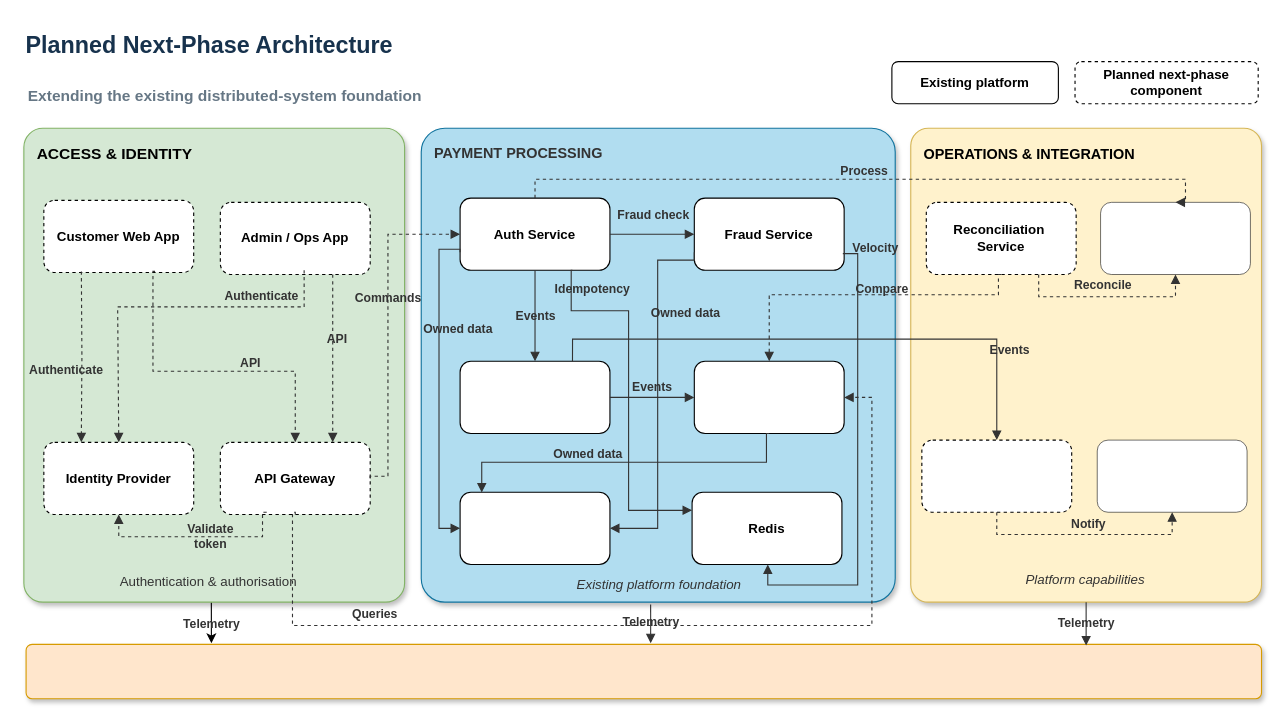
Some shapes in this 1288 by 726 pixel diagram are drawn without their labels. Each missing label, with the centre of its shape:
"auth-db fraud-db edger-db" goes at pixel 534 527.
"External Payment Processor" goes at pixel 1175 238.
"Kafka" goes at pixel 534 396.
"Ledger Service" goes at pixel 768 396.
"Merchant System" goes at pixel 1171 475.
"Notification Service" goes at pixel 996 475.
"OBSERVABILITY metrics · traces · dashboards" goes at pixel 644 673.
